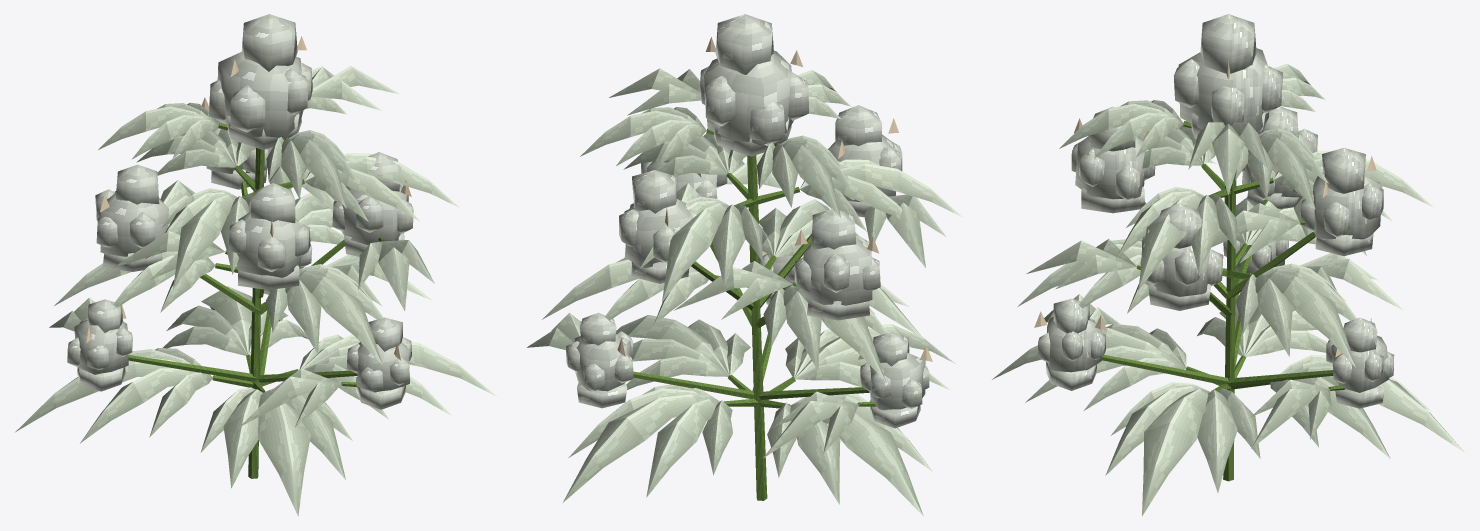
File: bushy_3.obj
The picture shows the model from 3 angles, left to right: view 1: azimuth 30°, elevation 25°; view 2: azimuth 150°, elevation 25°; view 3: azimuth 270°, elevation 25°; orthographic projection. The views are drawn at different scales.
Visible parts, largest first — view 1: plant; view 2: plant; view 3: plant.
Boxes of the visible parts, box(x1,y1,x2,y2) form: plant: box(15, 14, 496, 516); plant: box(527, 14, 961, 516); plant: box(992, 14, 1464, 516).
Size of the model in its own units: 0.894 by 0.9834 by 0.894.
